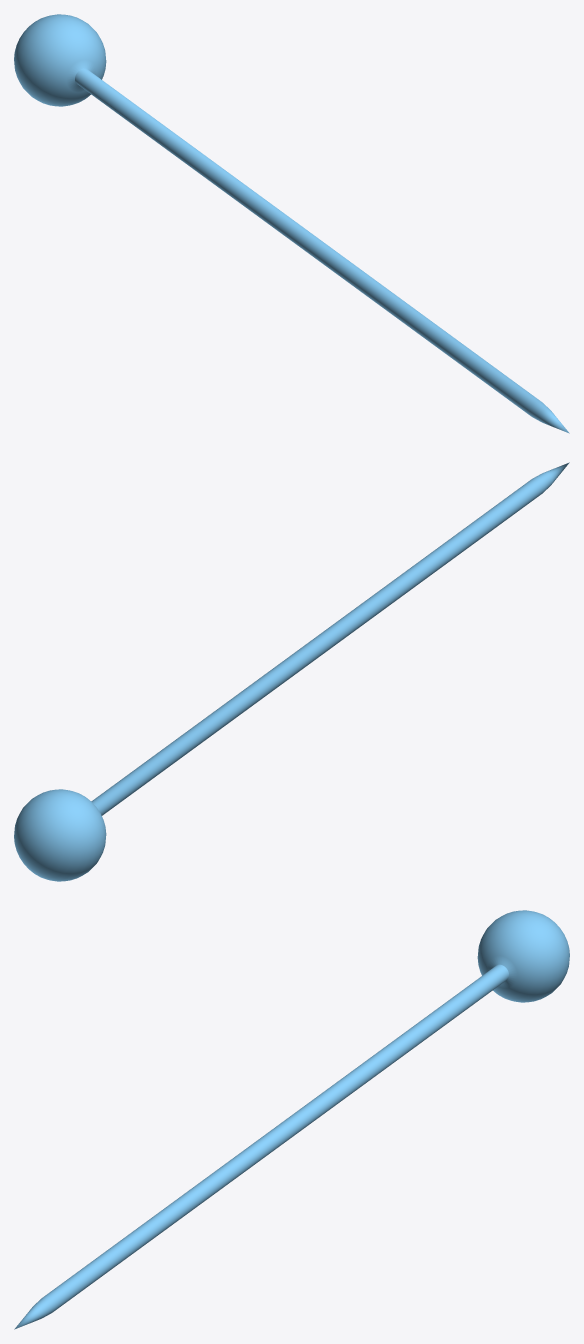
File: LIGHTSKYBLUE.glb
The picture shows the model from 3 angles, top to bottom: view 1: azimuth 30°, elevation 25°; view 2: azimuth 150°, elevation 25°; view 3: azimuth 330°, elevation 25°; orthographic projection.
Parts seen in each view (by area): view 1: Sphere; view 2: Sphere; view 3: Sphere.
Boxes of the visible parts, x1,y1,x2,y2 form: Sphere: (14, 14, 569, 433); Sphere: (14, 462, 569, 881); Sphere: (14, 910, 569, 1329).
Size of the model in its own units: 0.02 by 0.02 by 0.2305.
